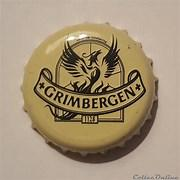metal: (24, 24, 156, 154)
